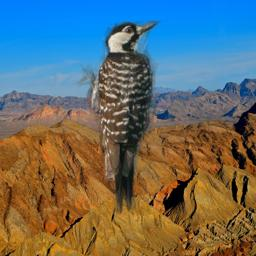Woodpecker: (73, 21, 162, 224)
